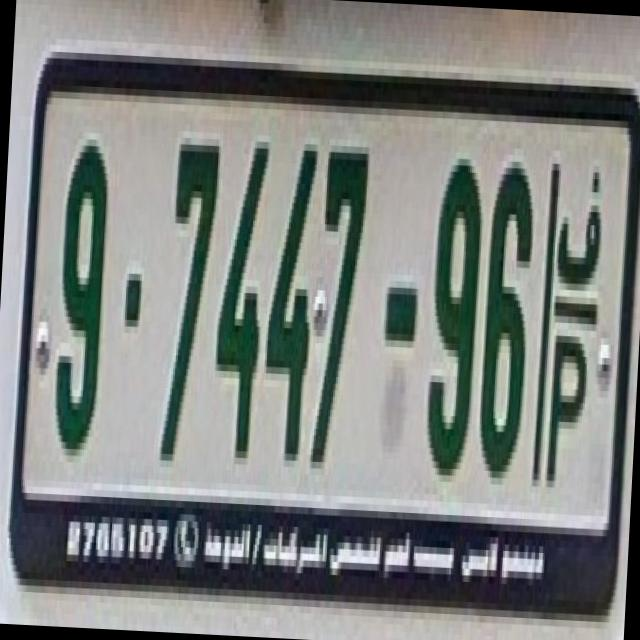4: (204, 114, 272, 458), (254, 116, 318, 461)
6: (473, 127, 540, 479)
7: (158, 104, 224, 456), (304, 125, 370, 464)
9: (414, 138, 486, 476), (44, 118, 112, 457)
H: (530, 137, 601, 476)
